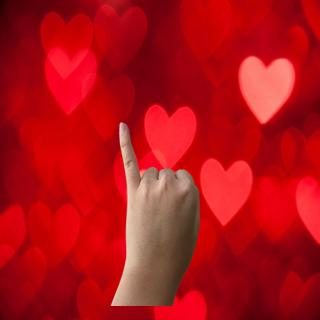FINE: (111, 118, 205, 273)
